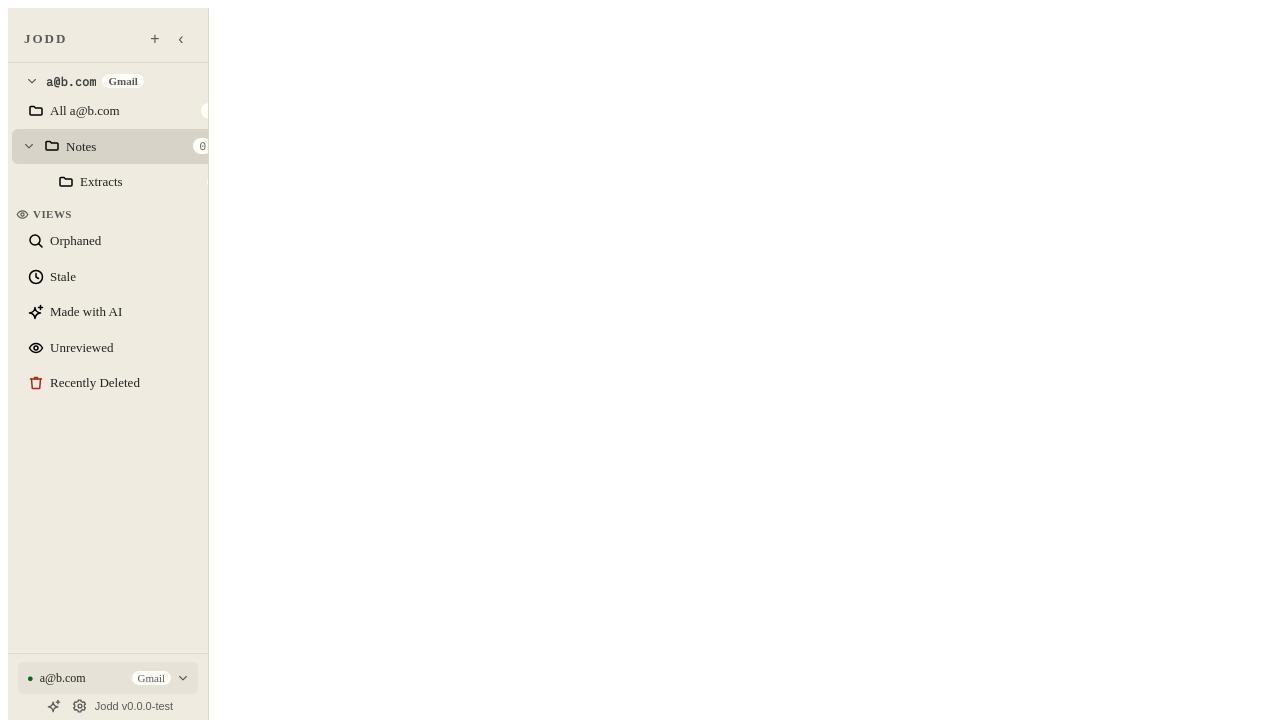
it: Sidebar text prompt › opens as a Modal titled with the prompt, input focused and selected
Right-click the button titled "Extracts" at [101, 182], box [58,174,226,190]
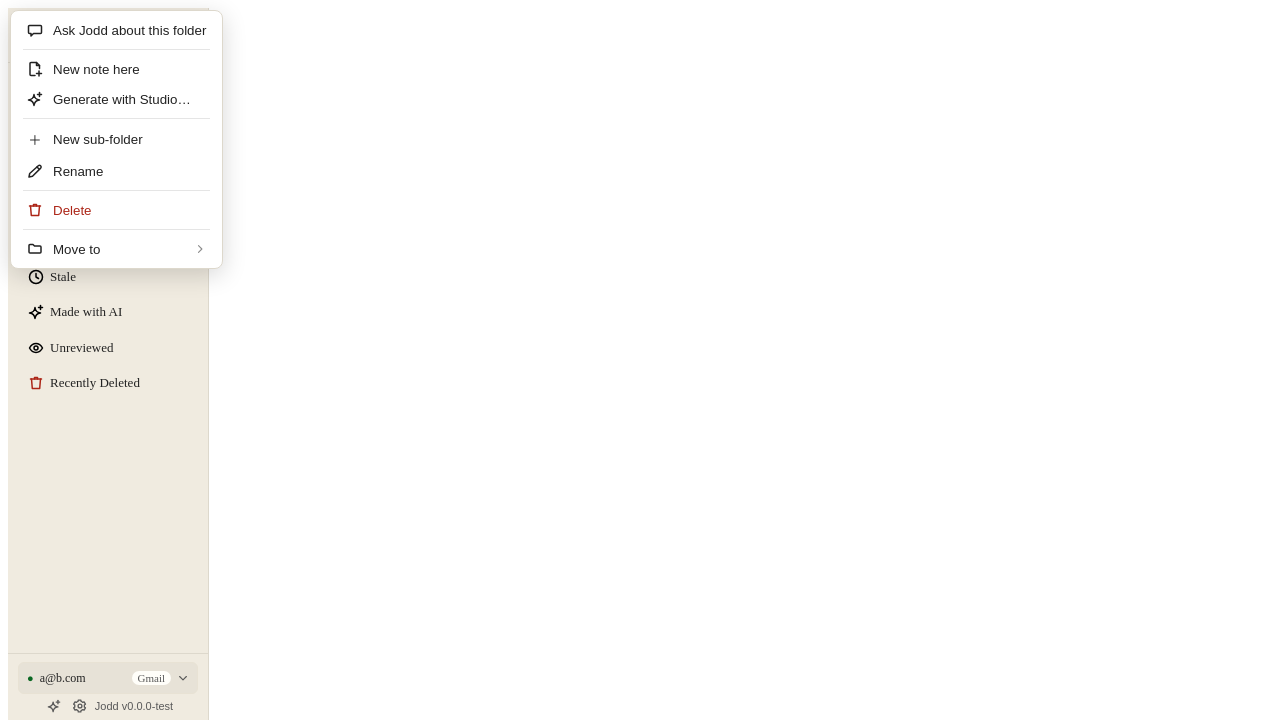
Click the button "Rename" at [117, 171], box [15,156,218,186]
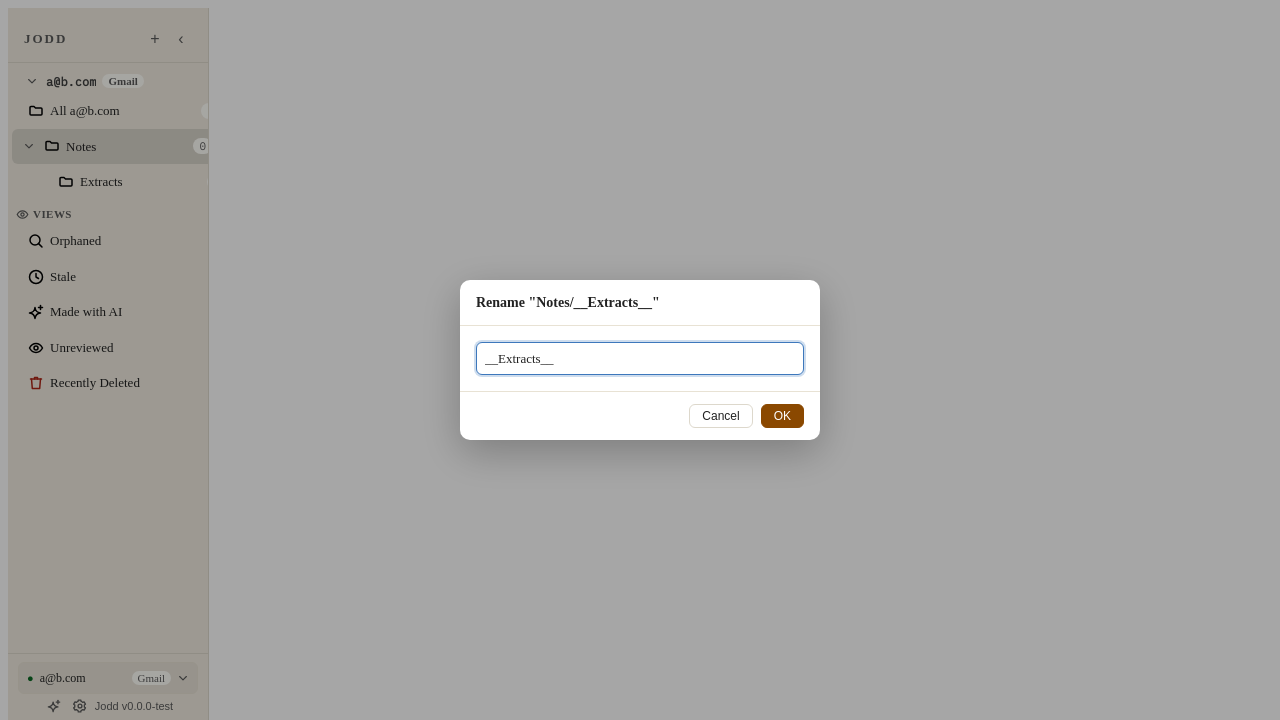
Check: the heading "Rename \"Notes/__Extracts__\"" reads "Rename \"Notes/__Extracts__\"", box [476,295,660,310]
Check: the field holds "__Extracts__", box [476,342,804,375]
